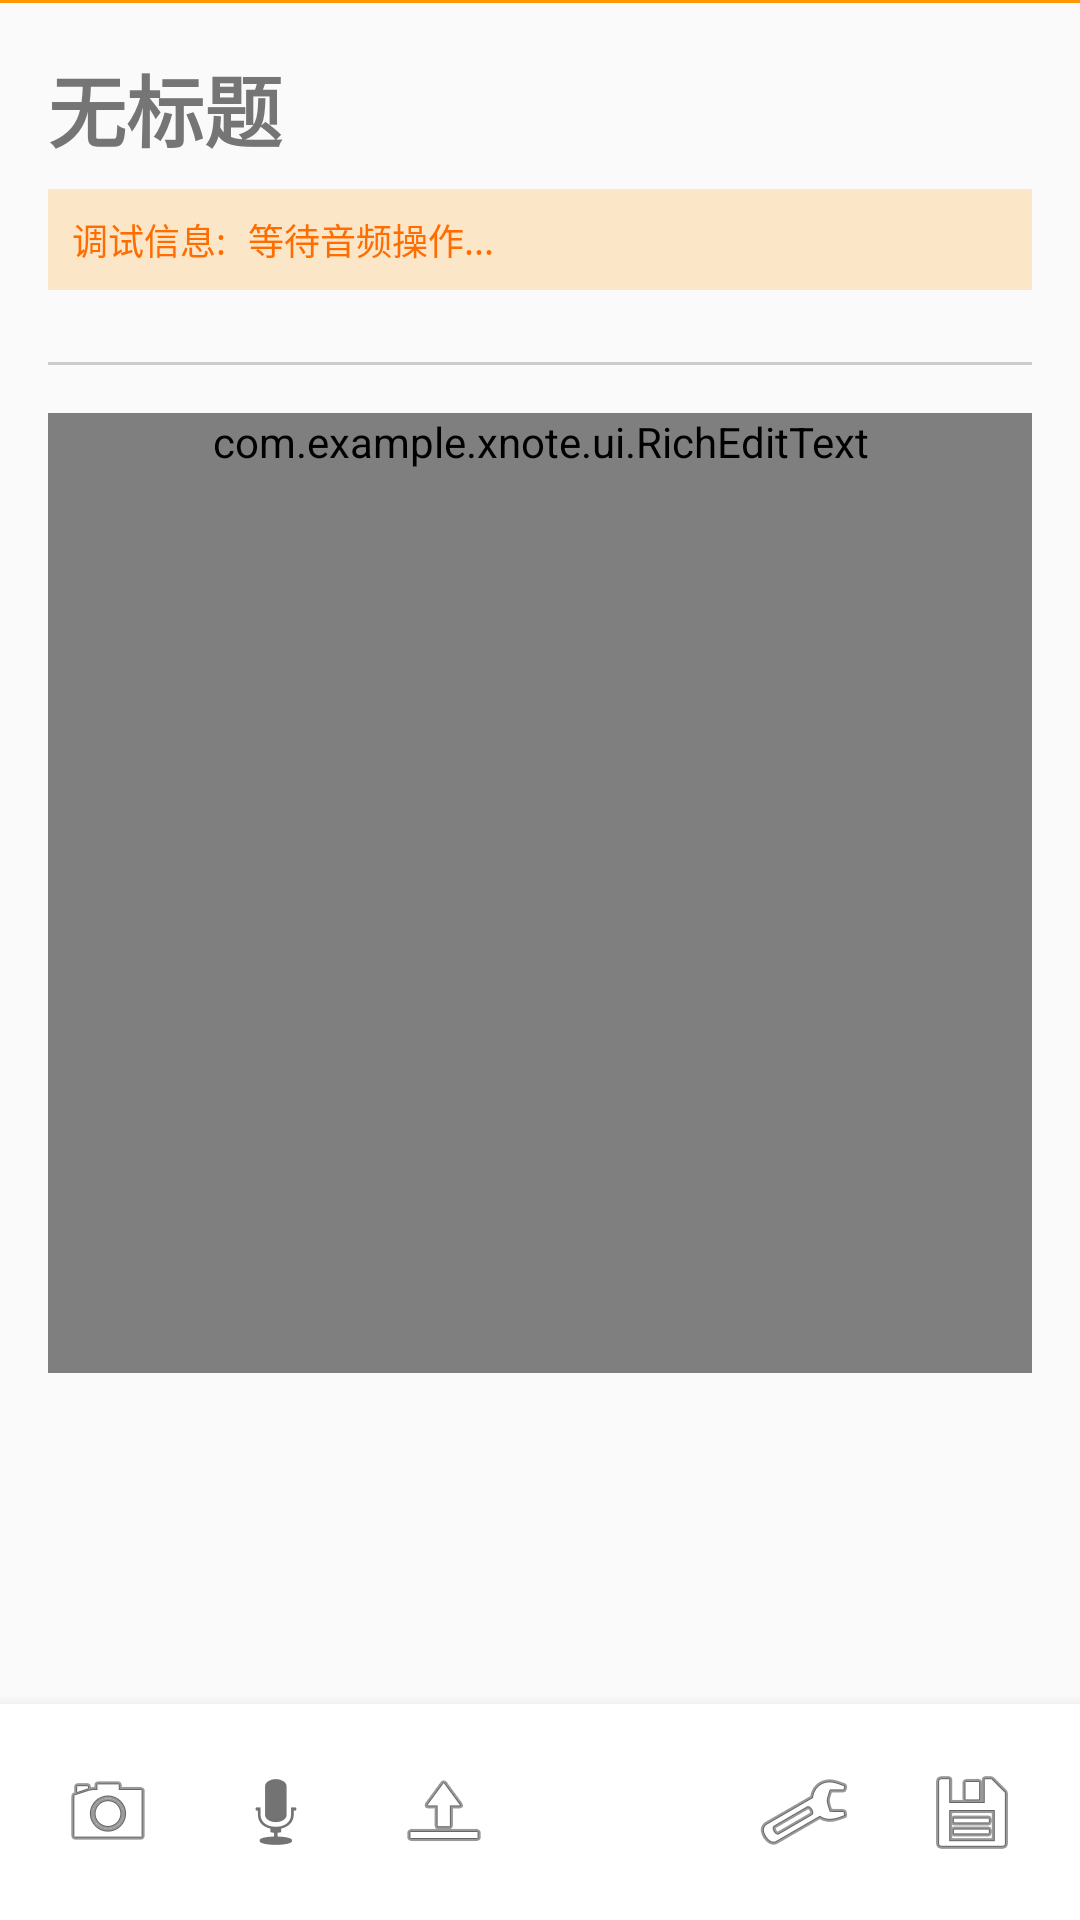

Where to tap for icons on this 1080×1920 app screen, as [x,y]:
保存: [972,1812]
挂入附件: [444,1810]
插入图片: [108,1810]
插入音频: [276,1812]
